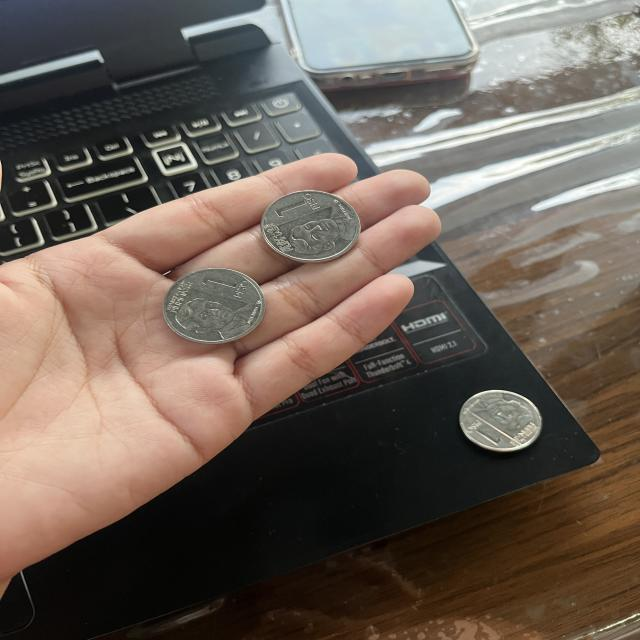1_New_Front: (166, 272, 256, 338), (462, 389, 546, 450), (269, 193, 351, 255)
